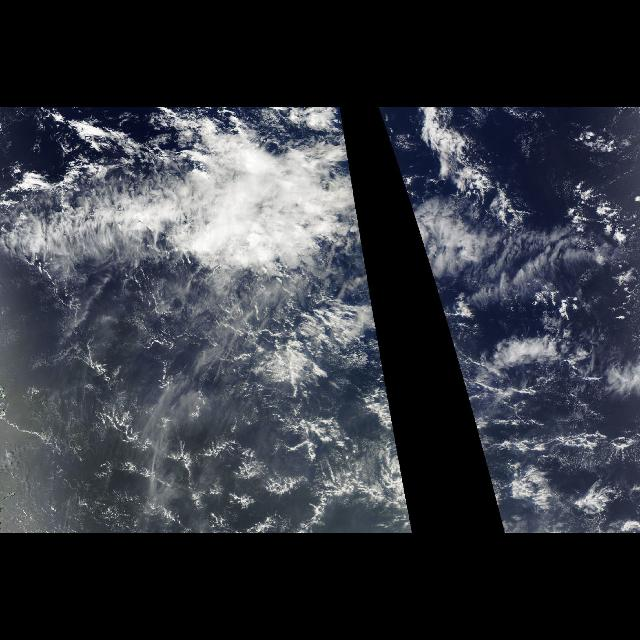Fish: (396, 109, 634, 319)
Sugar: (88, 400, 302, 522)
